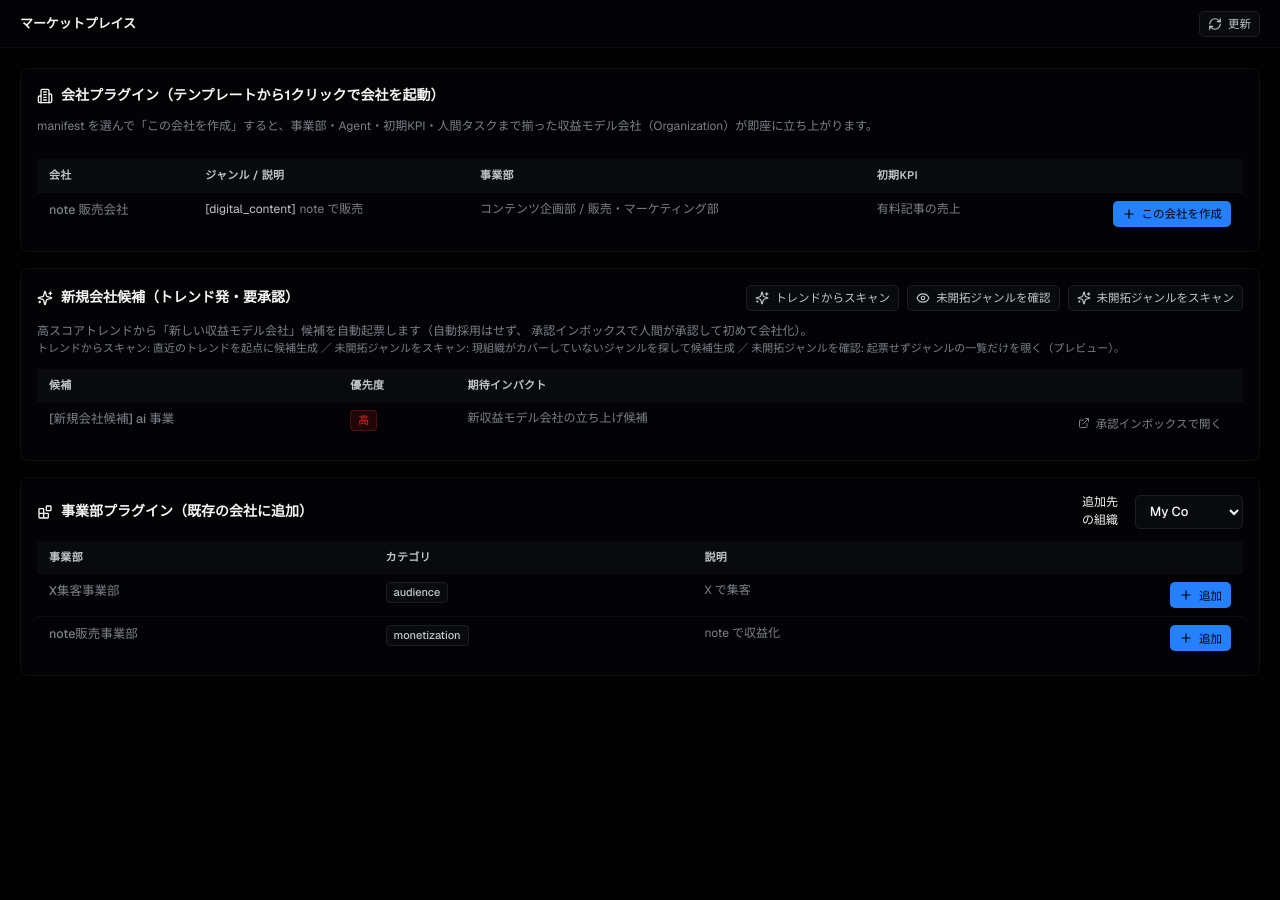
Test: 「未開拓ジャンルを確認」で起票せず GET プレビューを呼び、結果を表示する
This screenshot has width=1280, height=900.
What coordinates should you click on to do the following:
click the button "未開拓ジャンルを確認"
I would click on:
 (983, 298)
Its box is top-left (907, 285), bottom-right (1060, 311).
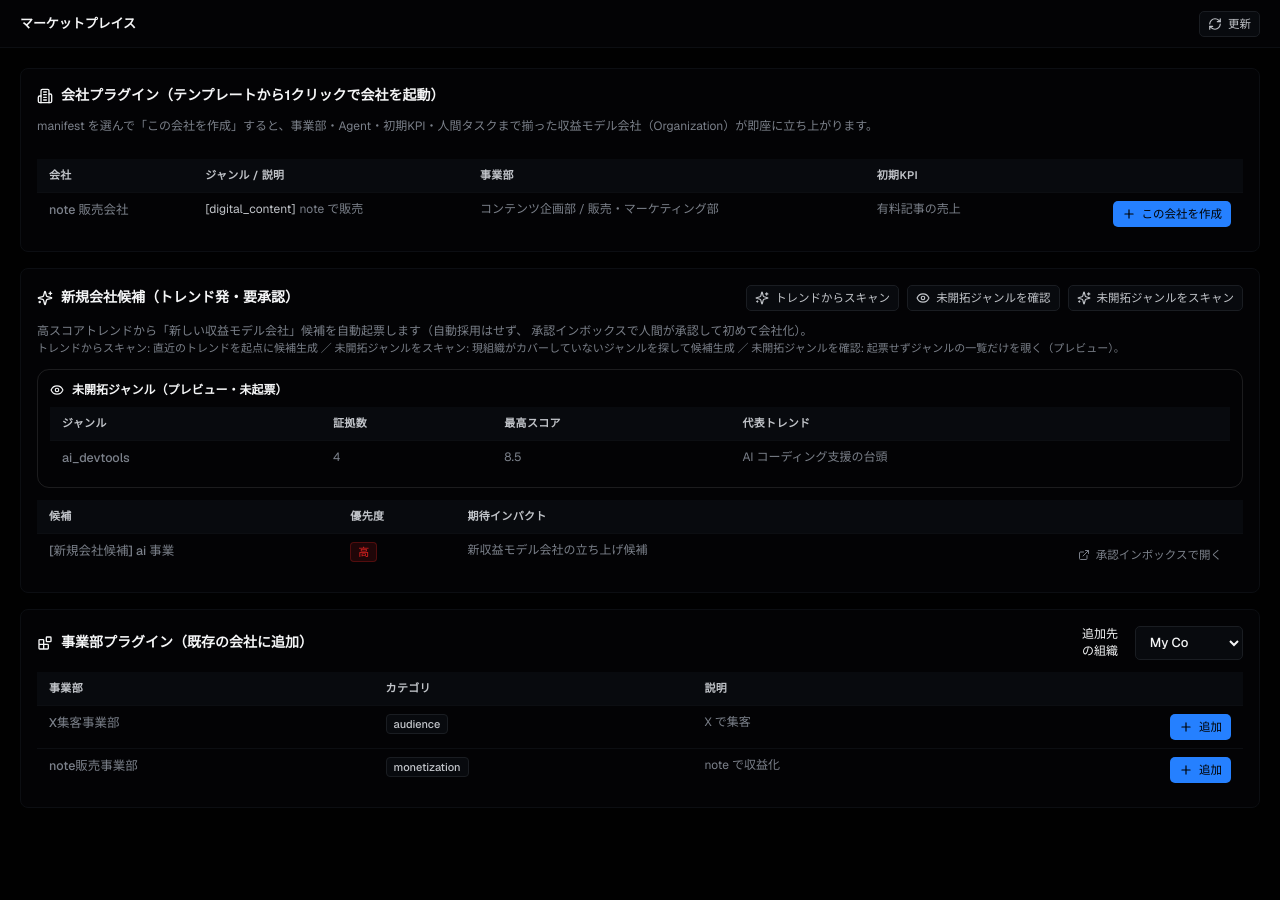
Now the text "ai_devtools" is shown, box top-left (50, 440), bottom-right (321, 475)
Now the text "AI コーディング支援の台頭" is shown, box top-left (730, 440), bottom-right (1230, 475)
Now the text "8.5" is shown, box top-left (492, 440), bottom-right (730, 475)
